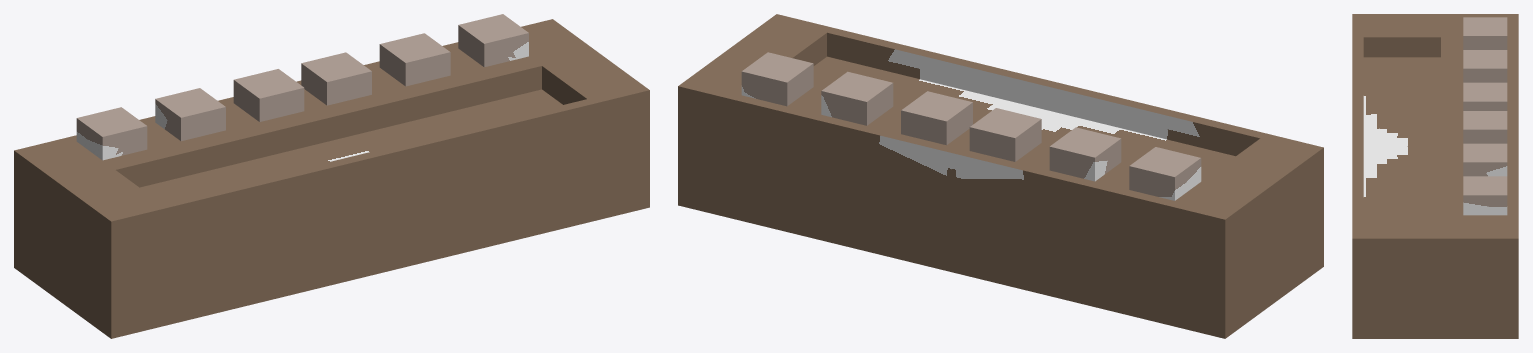
File: Radio.fbx
3 views of the same model, side by side, from view 1: azimuth 30°, elevation 25°; view 2: azimuth 150°, elevation 25°; view 3: azimuth 270°, elevation 25° (orthographic). The views are drawn at different scales.
Parts seen in each view (by area): view 1: Cube.001; view 2: Cube.001; view 3: Cube.001.
Part boxes in pixels (x1=…): Cube.001: x1=14, y1=14, x2=649, y2=338; Cube.001: x1=678, y1=14, x2=1323, y2=338; Cube.001: x1=1352, y1=14, x2=1518, y2=338.
Bounding box in the file's own units: 4.8 × 1.2 × 1.5.
Materials: 1 (1 with a texture image).
